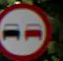No overtake: (0, 3, 50, 56)
